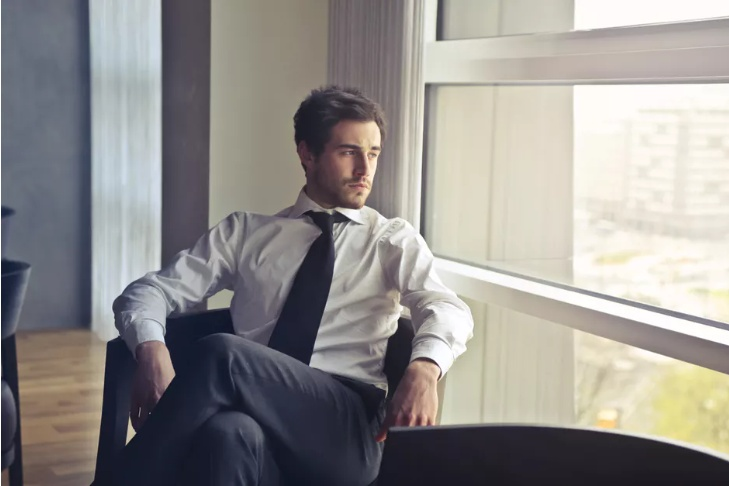face: (324, 118, 382, 208)
